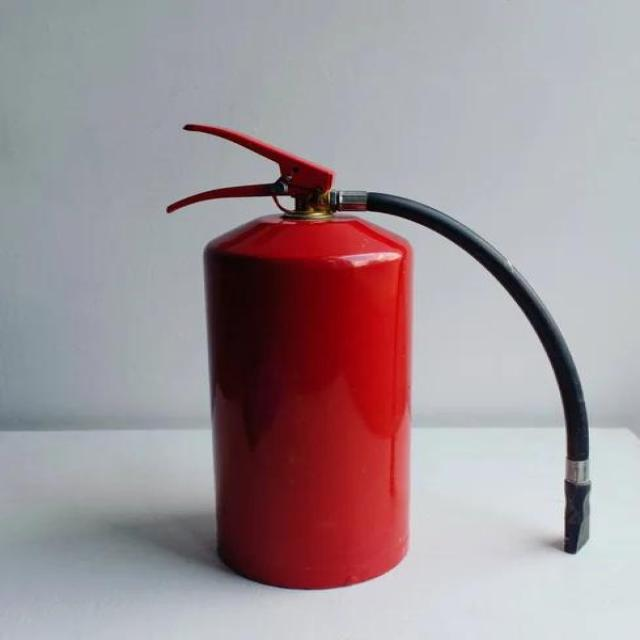fire_extinguisher: (150, 111, 600, 594)
